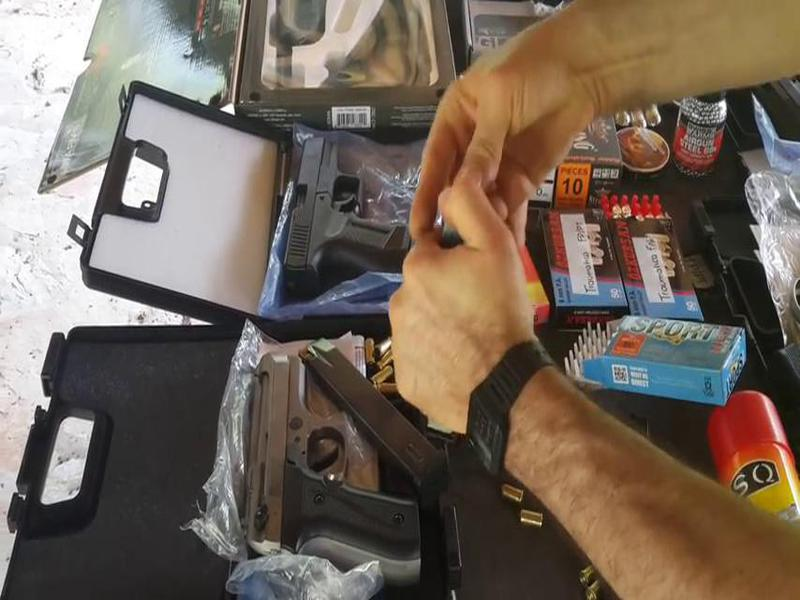Pistola: (219, 327, 440, 600), (261, 131, 424, 301)
